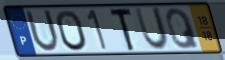1: (85, 9, 109, 52)
O: (55, 9, 89, 52)
Q: (164, 7, 201, 51)
T: (109, 6, 137, 53)
U: (133, 6, 171, 53), (23, 8, 61, 54)
